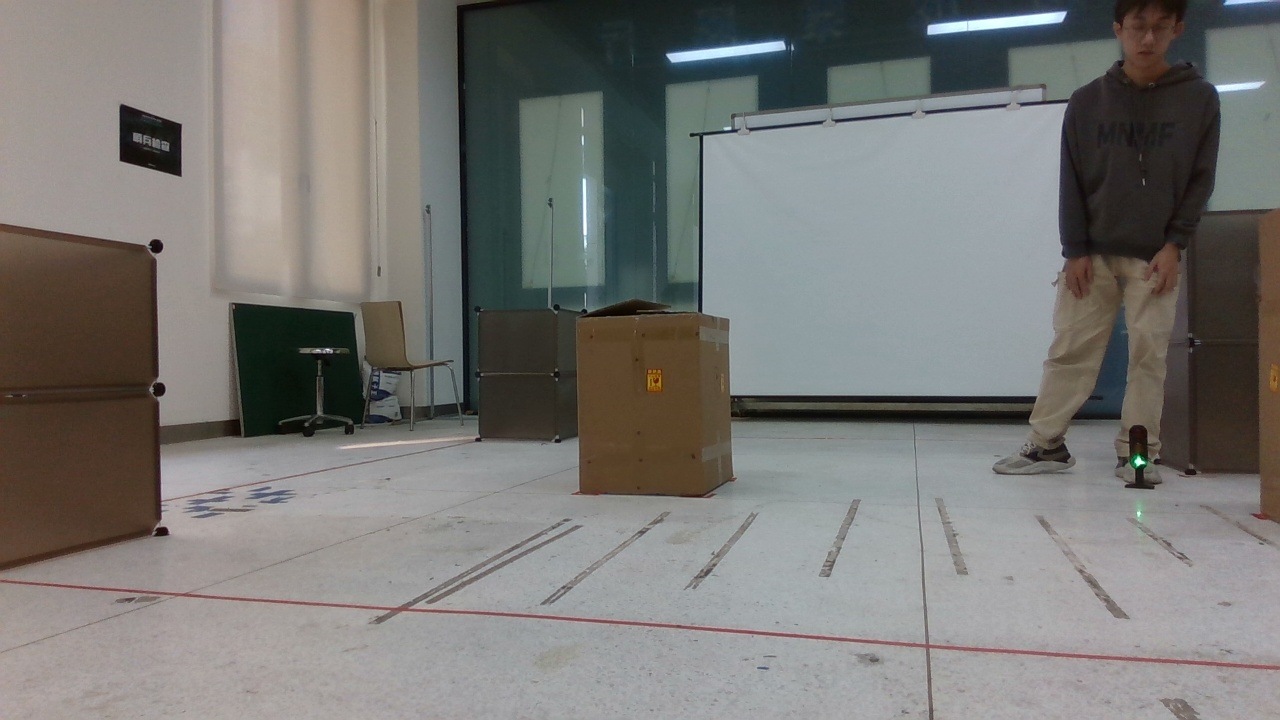green_light: (1114, 417, 1161, 493)
